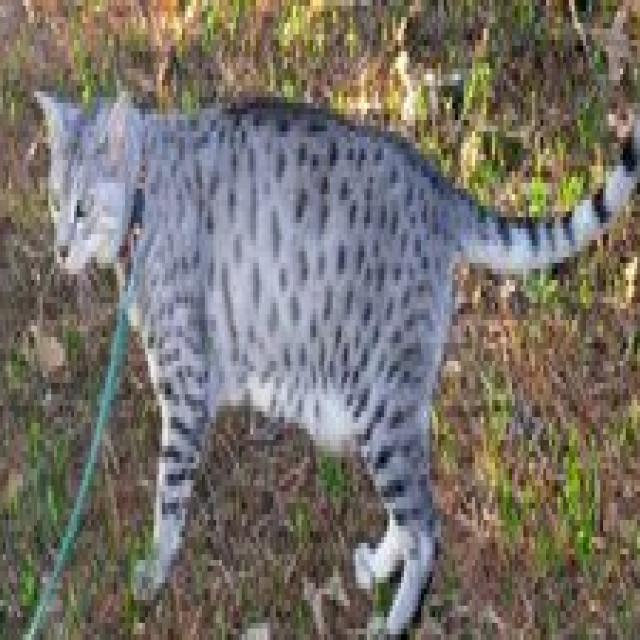Egyptian Mau: (28, 74, 640, 640)
